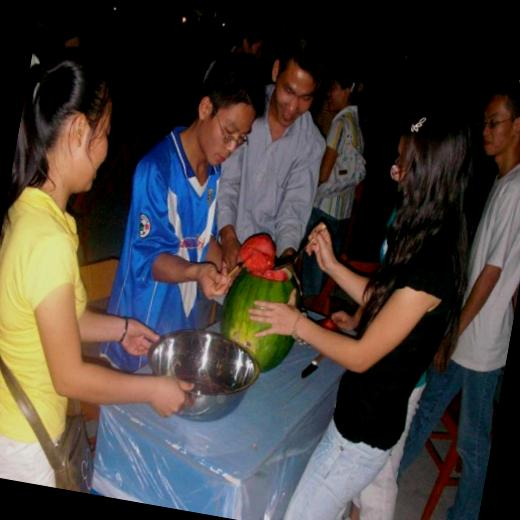Cherry: (218, 230, 310, 378)
